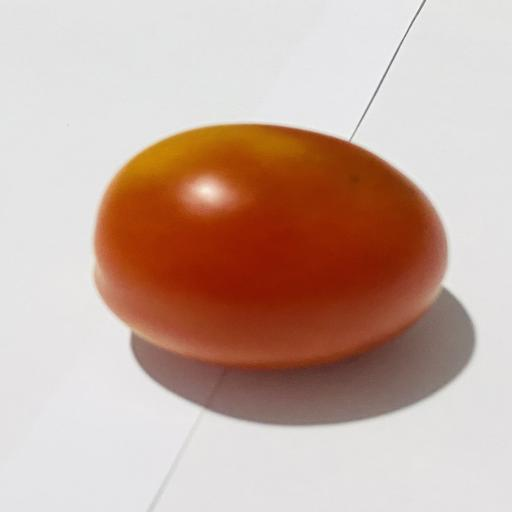ripe: (95, 124, 447, 368)
